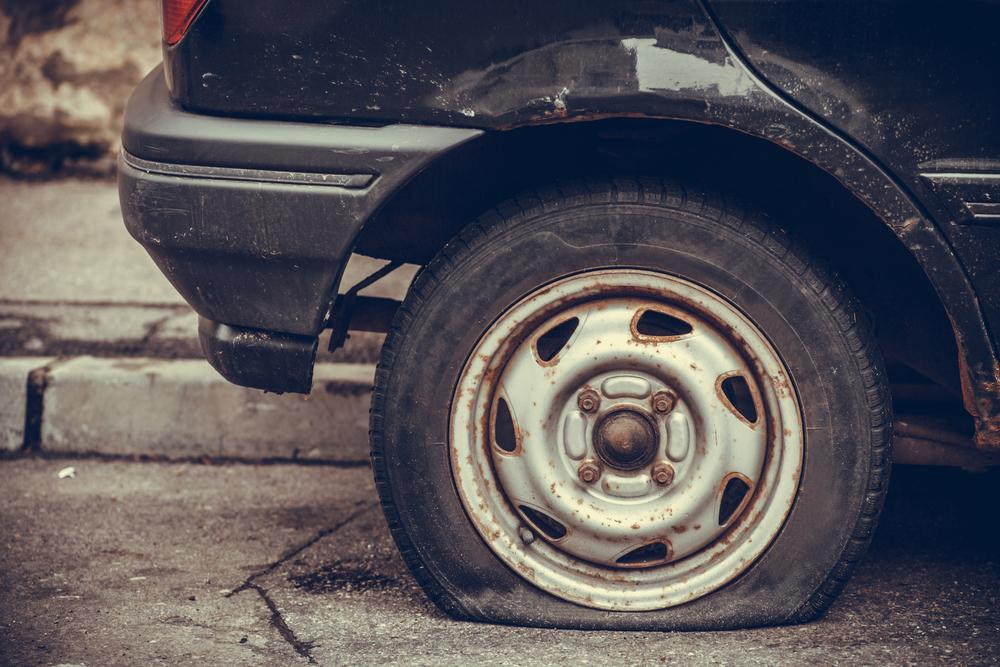tire flat: (366, 166, 896, 632)
